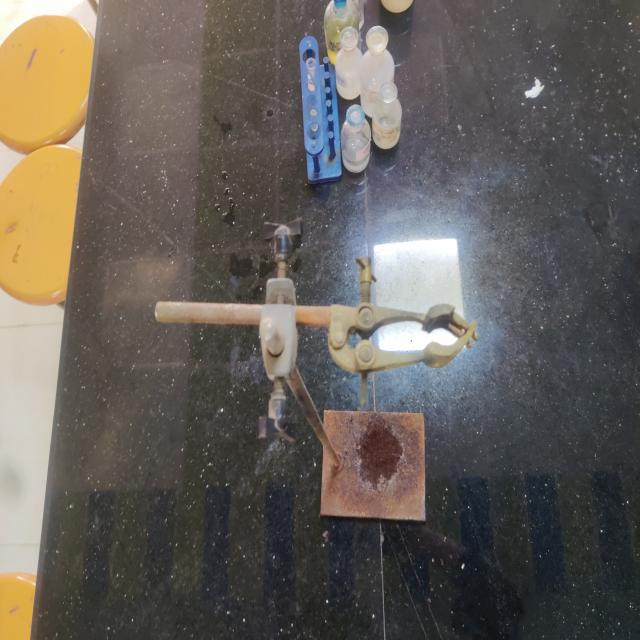Burette_Stands: (119, 192, 501, 580)
